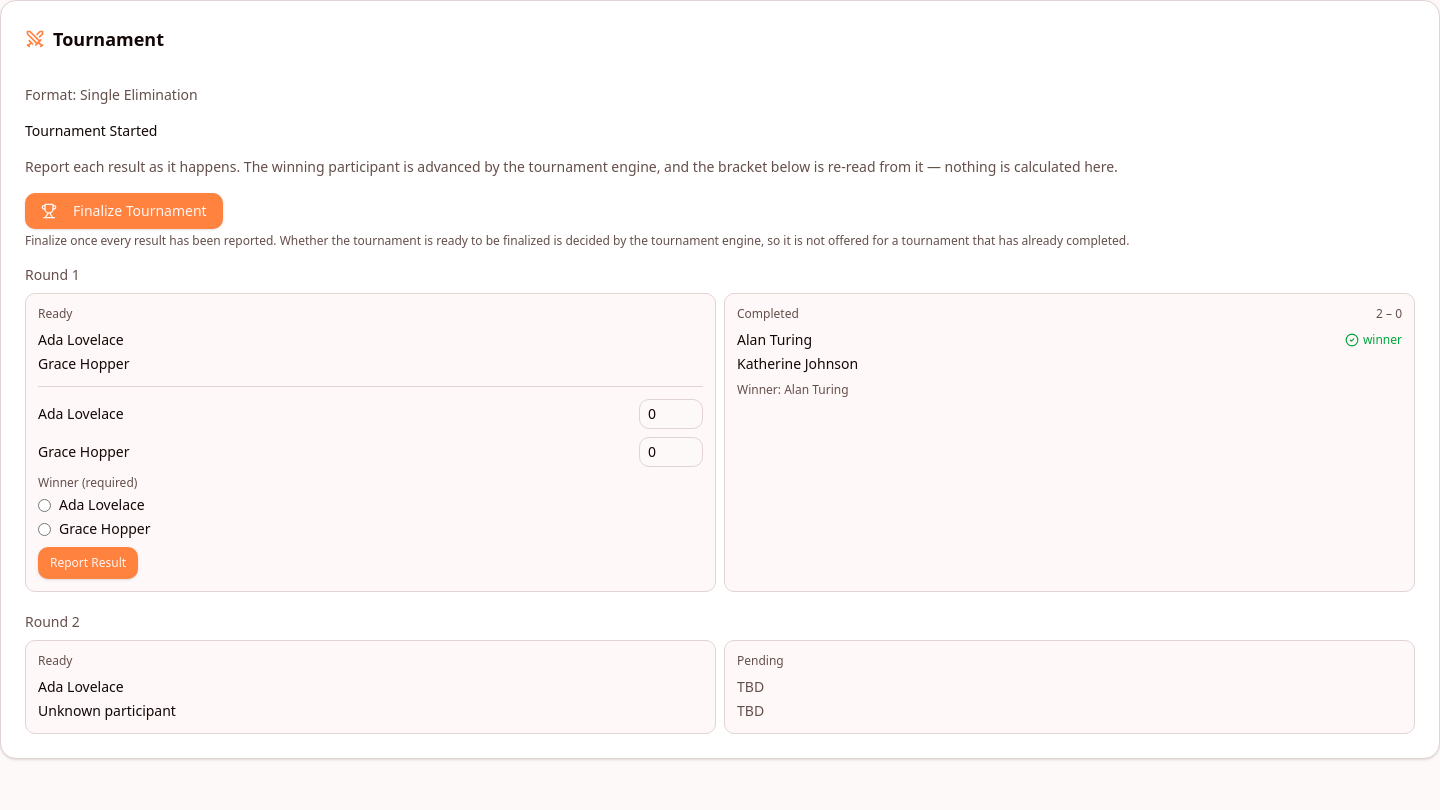
Scenario: TournamentPanel — result reporting › reports a rejected result honestly without losing the panel
The width and height of the screenshot is (1440, 810).
Replace the text in the number field named "Score for Ada Lovelace" with "2" at (671, 414), box [639,399,703,429]
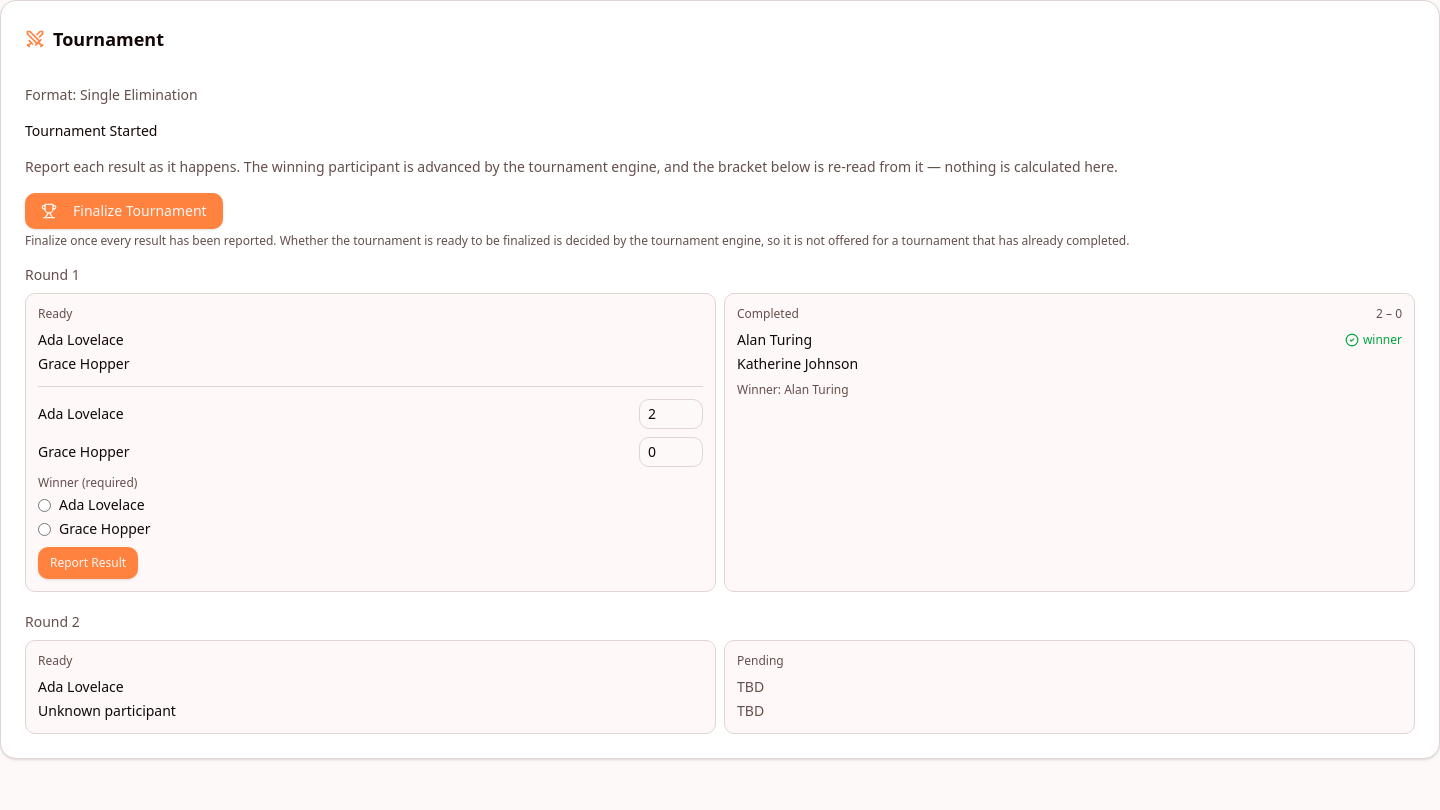
Replace the text in the number field named "Score for Grace Hopper" with "1" at (671, 452), box [639,437,703,467]
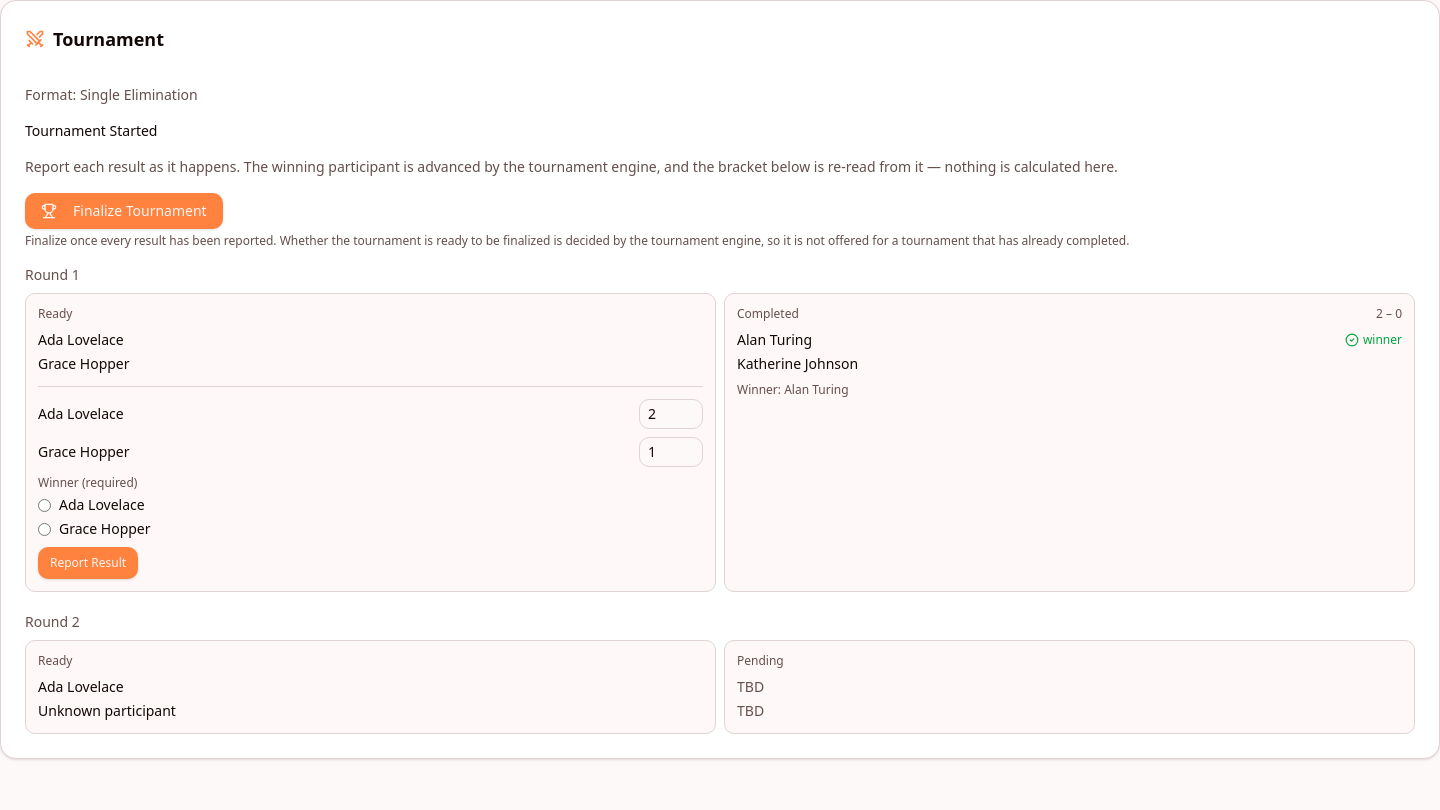
Click the radio button labelled "Ada Lovelace" at (44, 505), box [38,498,51,512]
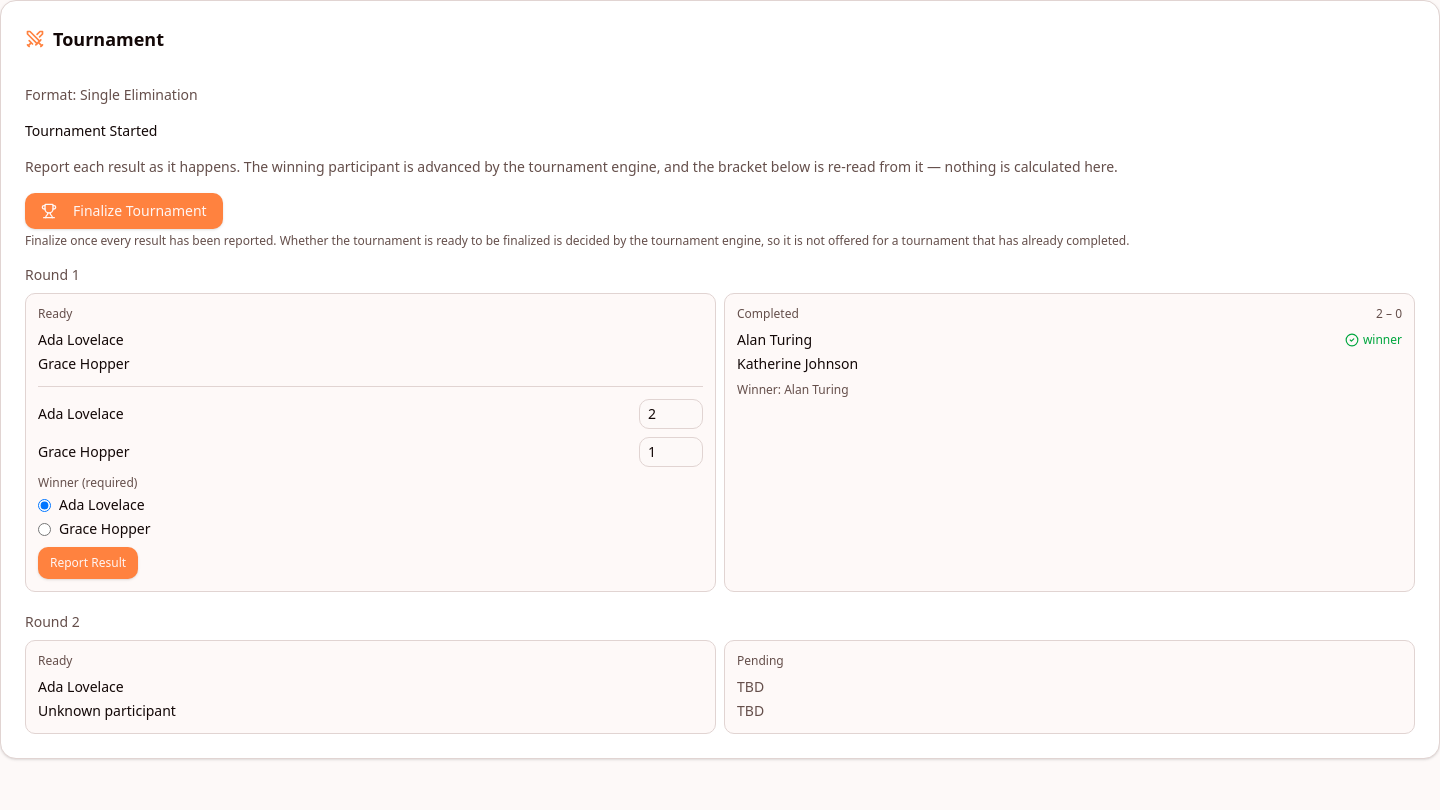
Click the button "Report Result" at (88, 563), box [38,547,138,579]
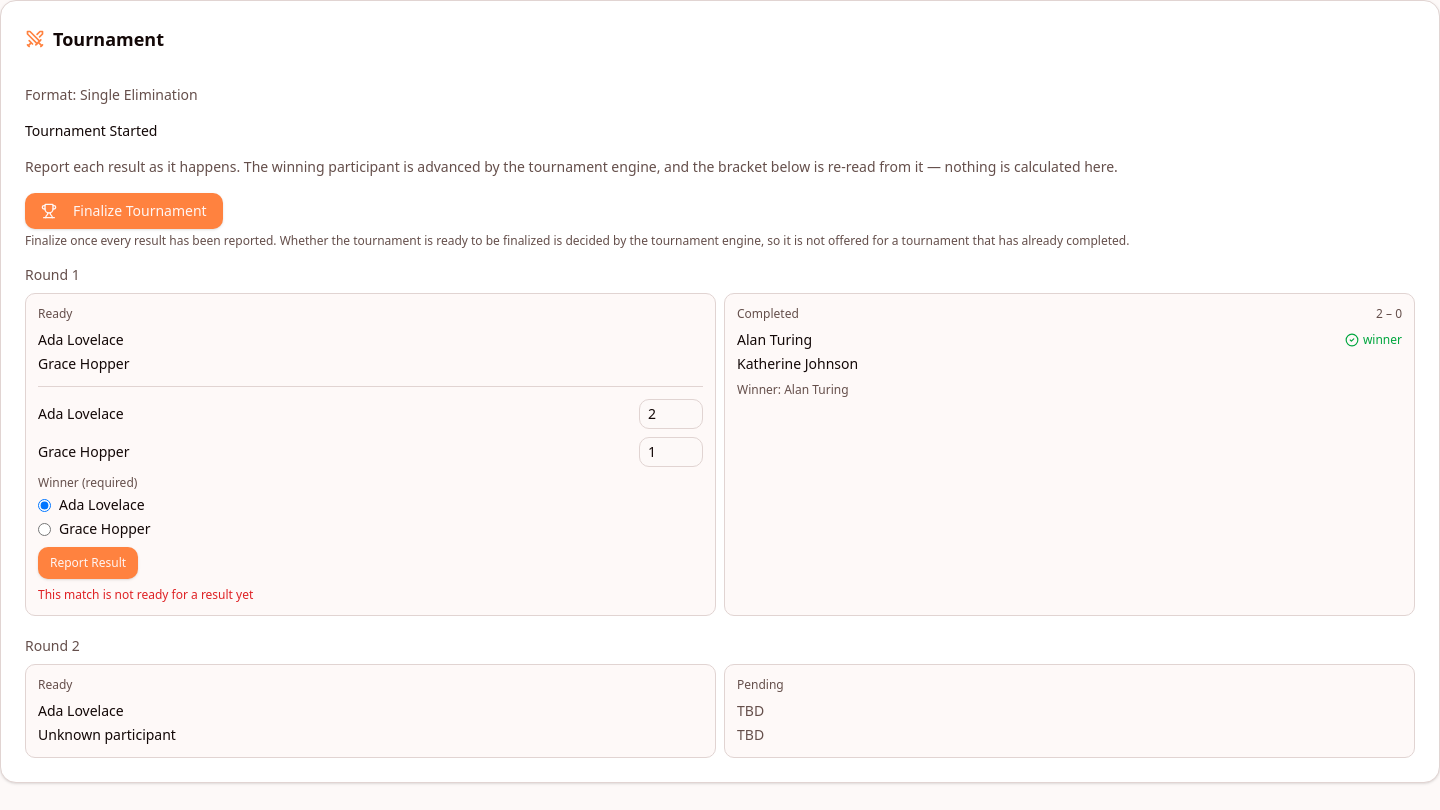
Expected: the heading "Round 1" is shown, [25,265,80,284]
Now the text "This match is not ready for a result yet" is shown, box [38,586,253,603]
